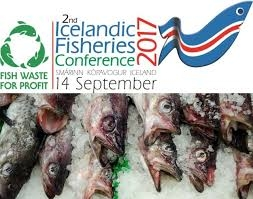kitchen_waste: (69, 93, 127, 168), (1, 100, 39, 199), (135, 128, 183, 194), (178, 128, 224, 196), (127, 92, 192, 139), (37, 129, 74, 199), (179, 92, 224, 130)
